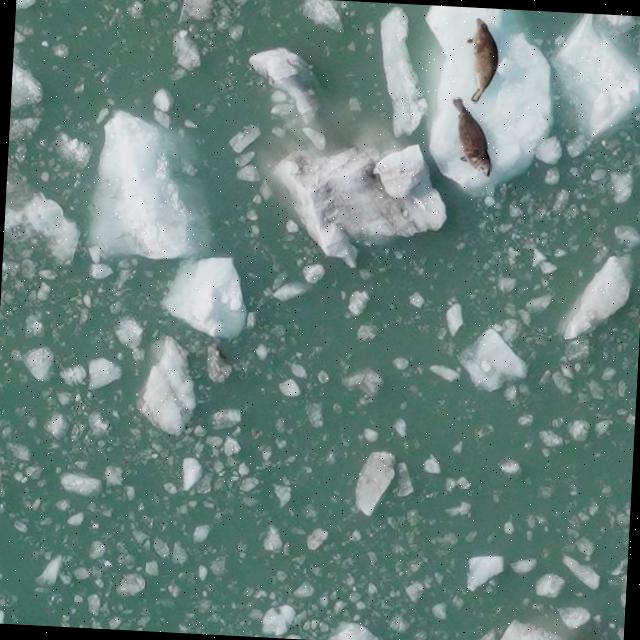seal: (447, 94, 493, 182), (462, 17, 501, 103)
